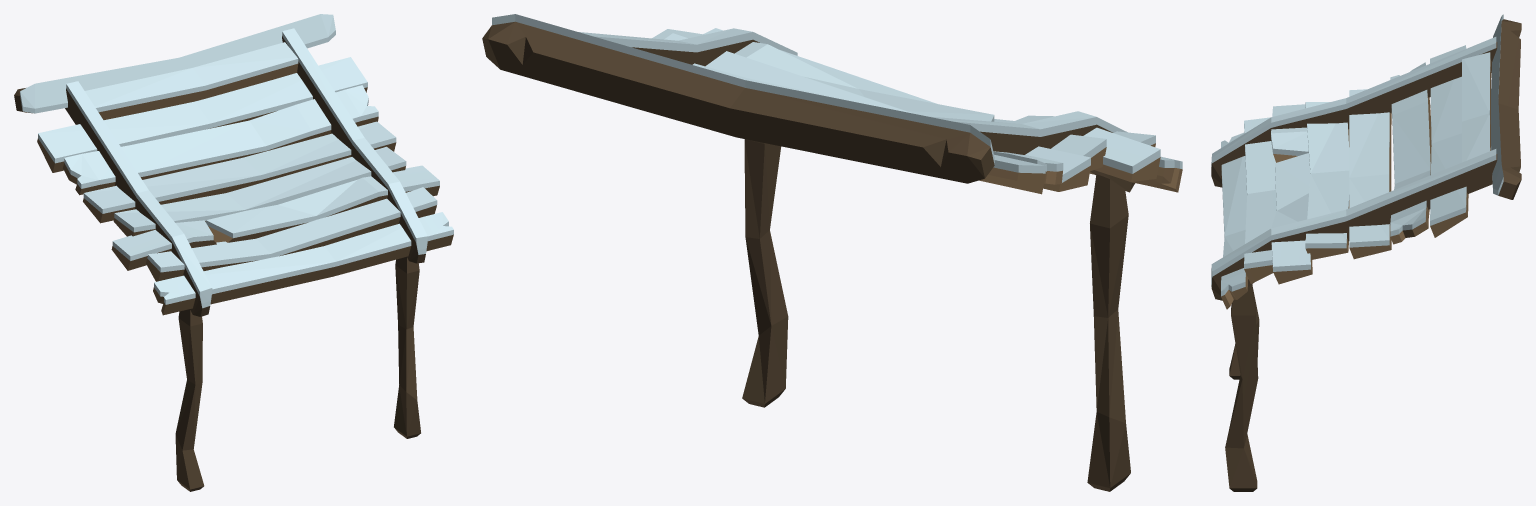
Rendered from SM_Bld_Leanto_01_Snow.gltf.
3 views of the same model, side by side, from view 1: azimuth 30°, elevation 25°; view 2: azimuth 150°, elevation 25°; view 3: azimuth 270°, elevation 25° (orthographic). The views are drawn at different scales.
Parts seen in each view (by area): view 1: SM_Bld_Leanto_01_Snow; view 2: SM_Bld_Leanto_01_Snow; view 3: SM_Bld_Leanto_01_Snow.
Part boxes in pixels (x1=…): SM_Bld_Leanto_01_Snow: x1=14, y1=14, x2=453, y2=491; SM_Bld_Leanto_01_Snow: x1=482, y1=14, x2=1182, y2=491; SM_Bld_Leanto_01_Snow: x1=1211, y1=14, x2=1521, y2=491.
Bounding box in the file's own units: 3.42 × 3.37 × 2.77.
1 material, 1 textured.
